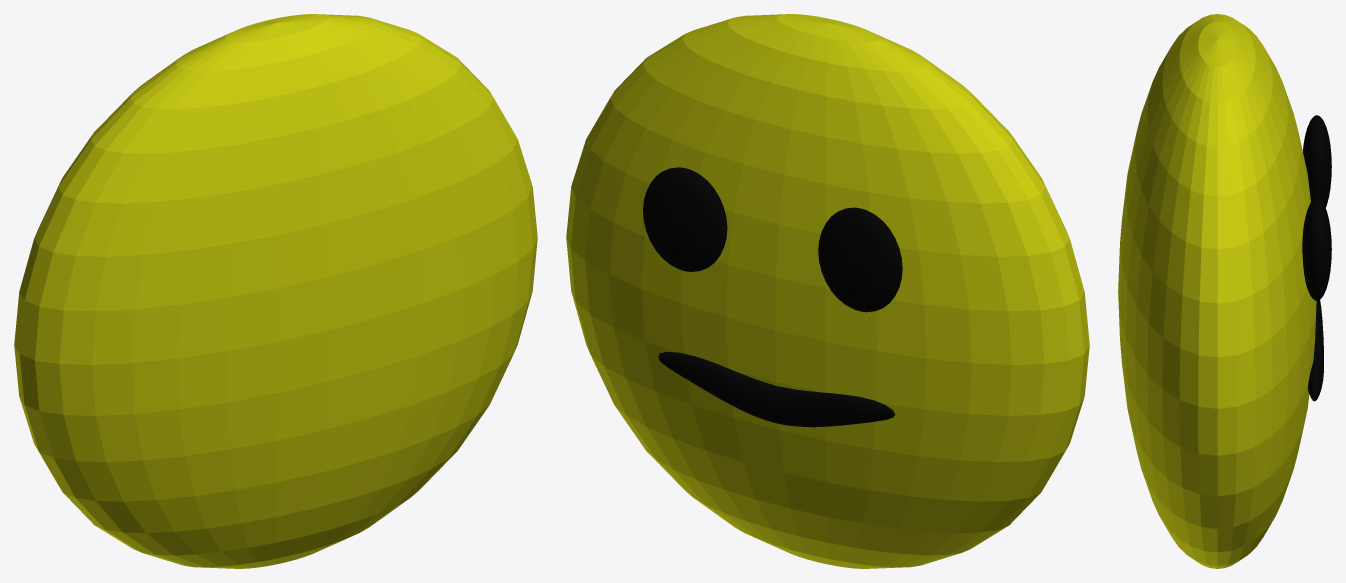
The model's file is NormalEmojiUI.obj.
3 views of the same model, side by side, from view 1: azimuth 30°, elevation 25°; view 2: azimuth 150°, elevation 25°; view 3: azimuth 270°, elevation 25° (orthographic). The views are drawn at different scales.
Parts seen in each view (by area): view 1: 球.004; view 2: 球.004; view 3: 球.004.
Boxes of the visible parts, x1=… form: 球.004: x1=14, y1=14, x2=537, y2=568; 球.004: x1=566, y1=14, x2=1089, y2=568; 球.004: x1=1118, y1=14, x2=1331, y2=568.
Bounding box in the file's own units: 2 × 2 × 0.7695.
